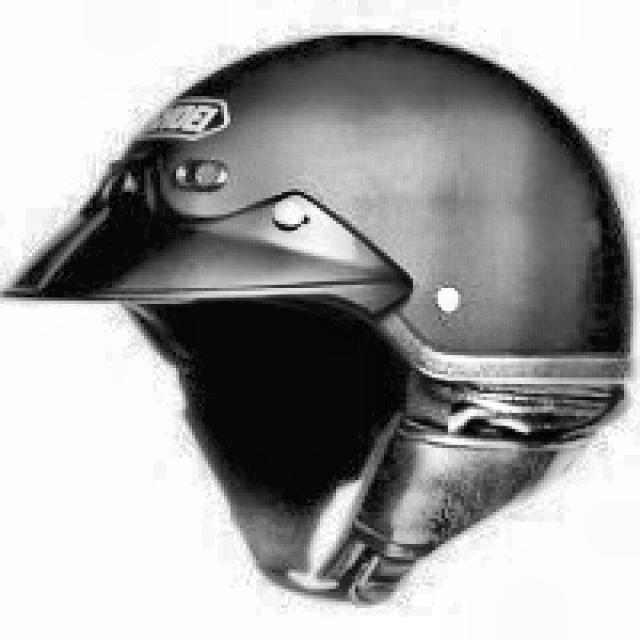Helmet: (5, 27, 631, 608)
